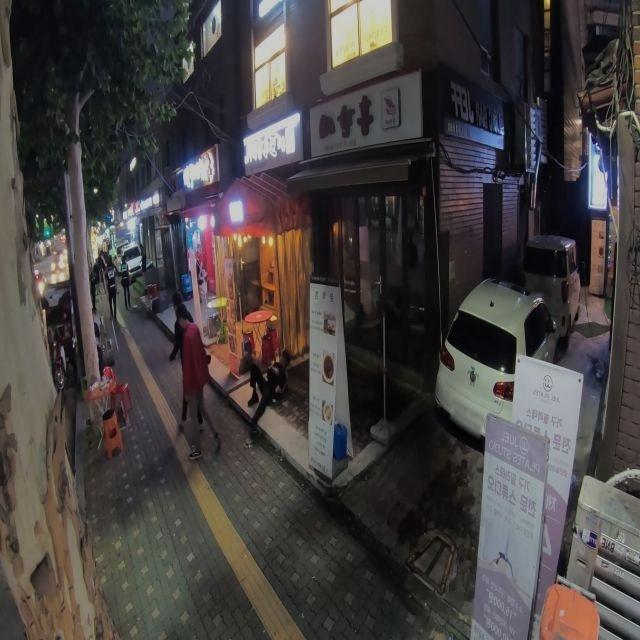non-fight: (166, 300, 219, 460), (247, 348, 290, 427)
